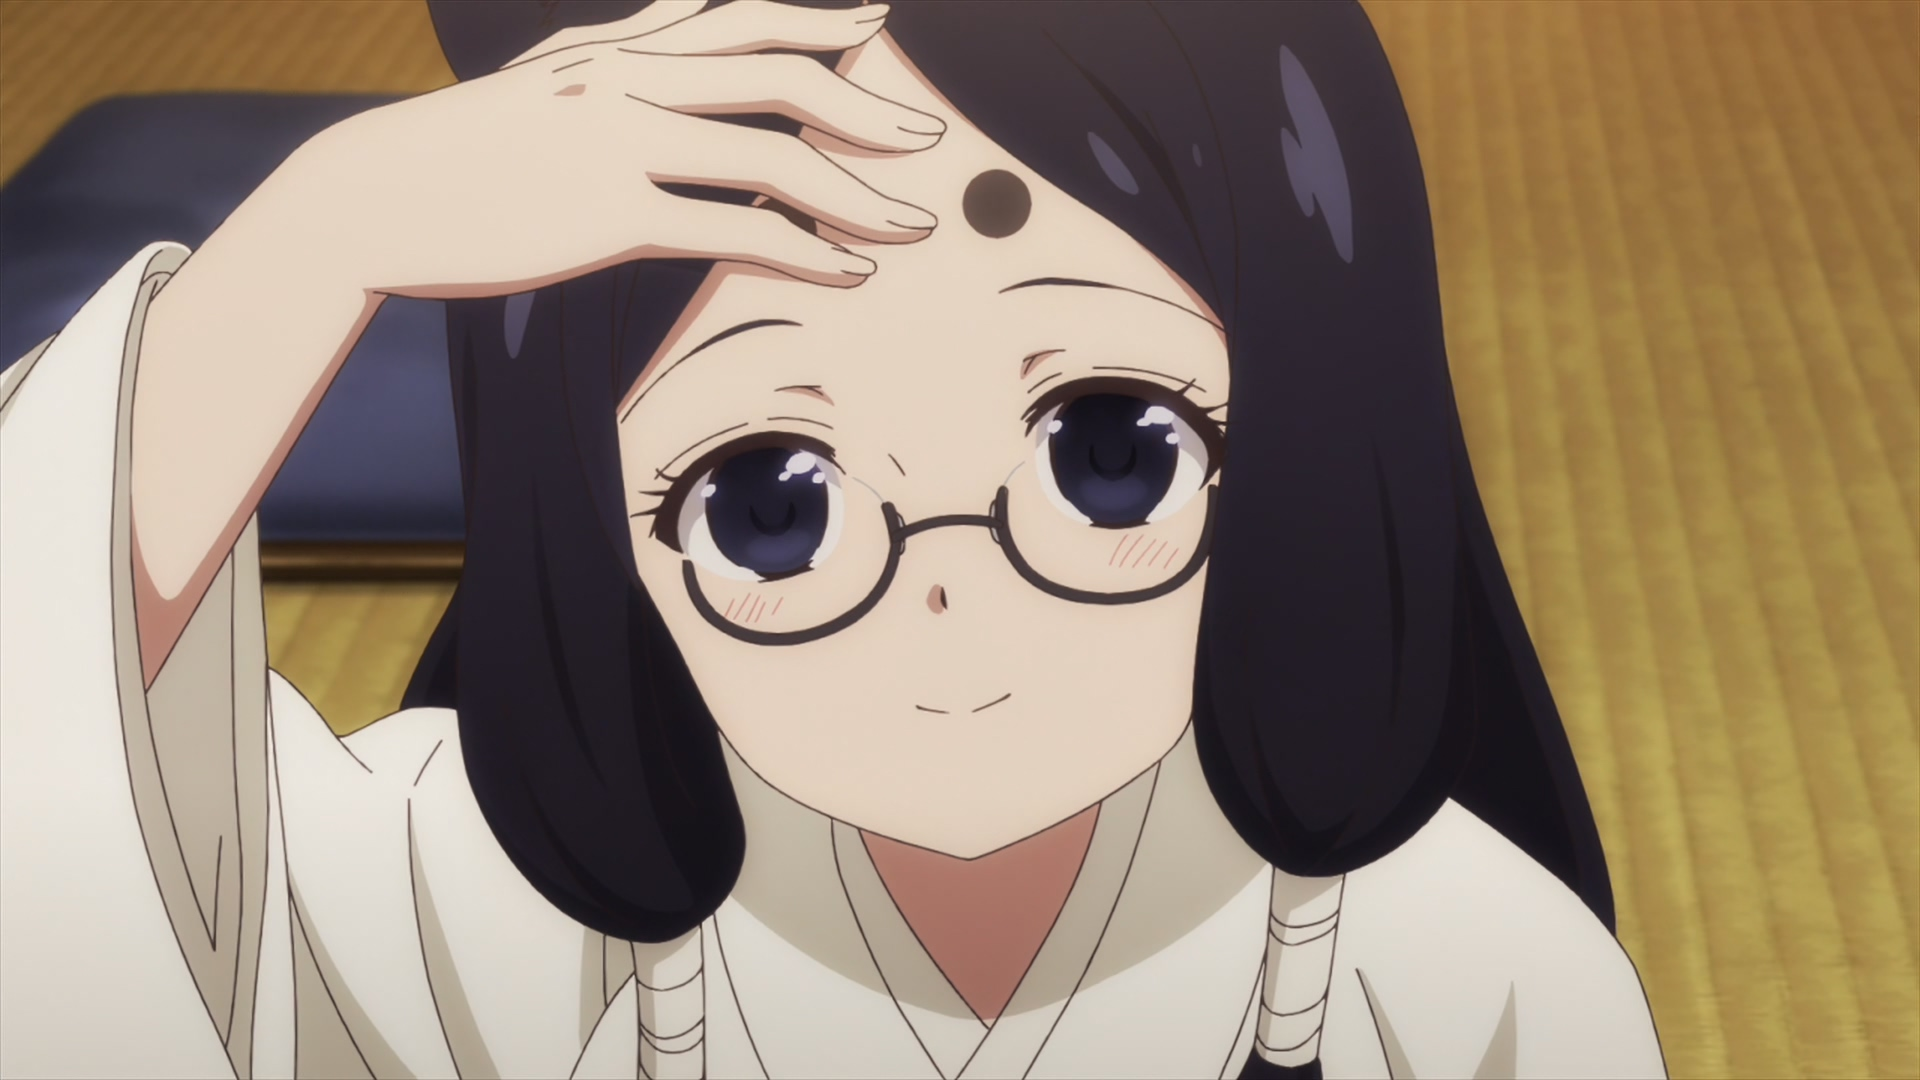菖: (1, 1, 1665, 1080)
